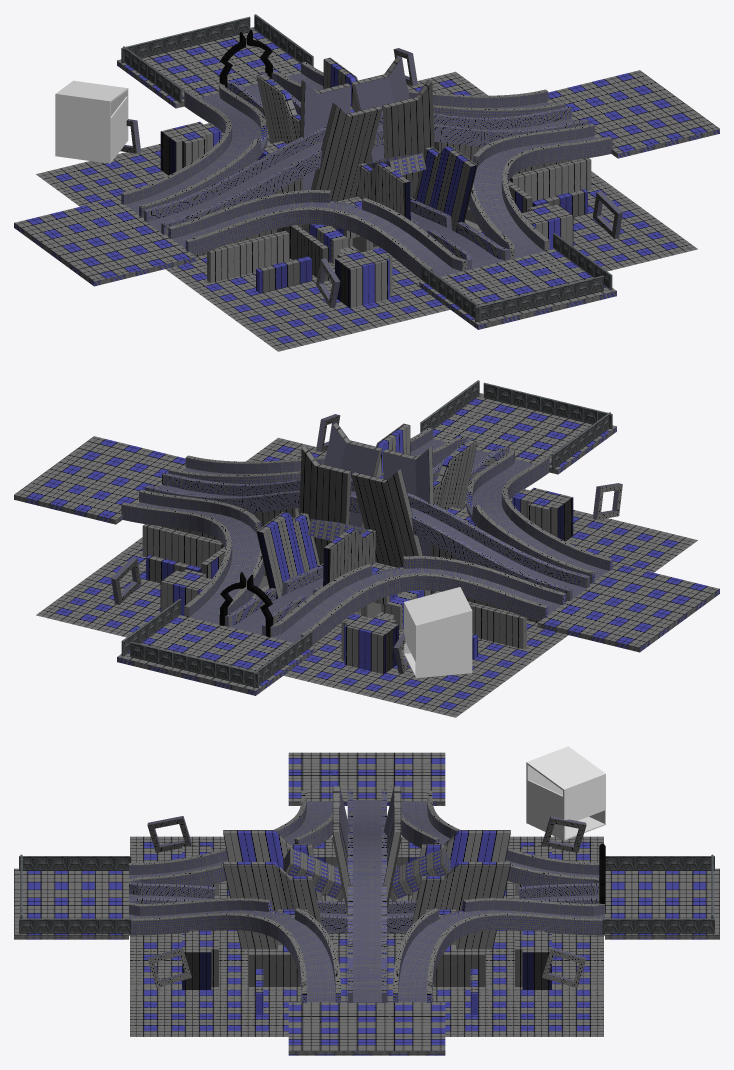
Rendered from World7.glb.
The picture shows the model from 3 angles, top to bottom: view 1: azimuth 30°, elevation 25°; view 2: azimuth 150°, elevation 25°; view 3: azimuth 270°, elevation 25°; orthographic projection. The views are drawn at different scales.
Visible parts, largest first — view 1: Plane.005, Plane, Cube.004, Cube.003, Plane.001, Cube.006, wall1.001, Plane.002, Plane.003, wall1, wall1.002, Arches (+1 smaller); view 2: Plane.005, Plane, Cube.004, Cube.003, Plane.001, Cube.006, wall1.001, Plane.002, Plane.003, wall1, wall1.002, Arches (+1 smaller); view 3: Plane.005, Plane, Cube.004, Cube.003, Plane.001, Cube.006, Plane.002, wall1.002, Cube.007, wall1, Plane.003.
Part boxes in pixels (x1,y1,x2,y2): Plane.005: (36, 56, 697, 351); Plane: (121, 61, 612, 280); Cube.004: (14, 70, 719, 286); Cube.003: (117, 27, 616, 329); Plane.001: (143, 106, 589, 235); Cube.006: (55, 80, 128, 163); wall1.001: (121, 16, 603, 321); Plane.002: (227, 72, 510, 269); Plane.003: (120, 48, 622, 307); wall1: (123, 46, 480, 322); wall1.002: (254, 14, 612, 289); Arches: (219, 29, 272, 87); Plane.005: (36, 422, 697, 717); Plane: (121, 427, 612, 646); Cube.004: (14, 436, 719, 652); Cube.003: (117, 393, 616, 695); Plane.001: (144, 472, 589, 601); Cube.006: (404, 587, 472, 677); wall1.001: (130, 382, 612, 687); Plane.002: (224, 437, 509, 635); Plane.003: (111, 414, 622, 673); wall1: (253, 412, 610, 688); wall1.002: (121, 380, 479, 655); Arches: (220, 572, 273, 637); Plane.005: (130, 786, 603, 1036); Plane: (129, 790, 604, 1002); Cube.004: (288, 752, 445, 1055); Cube.003: (14, 868, 719, 939); Plane.001: (347, 790, 386, 1002); Cube.006: (526, 746, 605, 840); Plane.002: (129, 882, 599, 933); wall1.002: (19, 918, 714, 933); Cube.007: (283, 847, 450, 901); wall1: (19, 856, 714, 870); Plane.003: (147, 816, 586, 988).
Size of the model in its own units: 263 by 58.5 by 263.
Materials: 3 (3 with a texture image).
